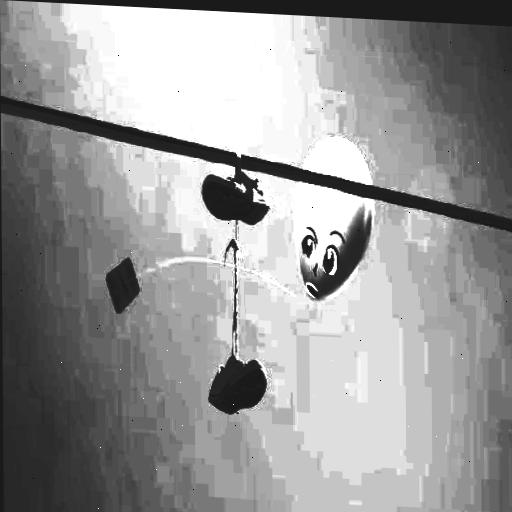balloon: (291, 134, 374, 301)
